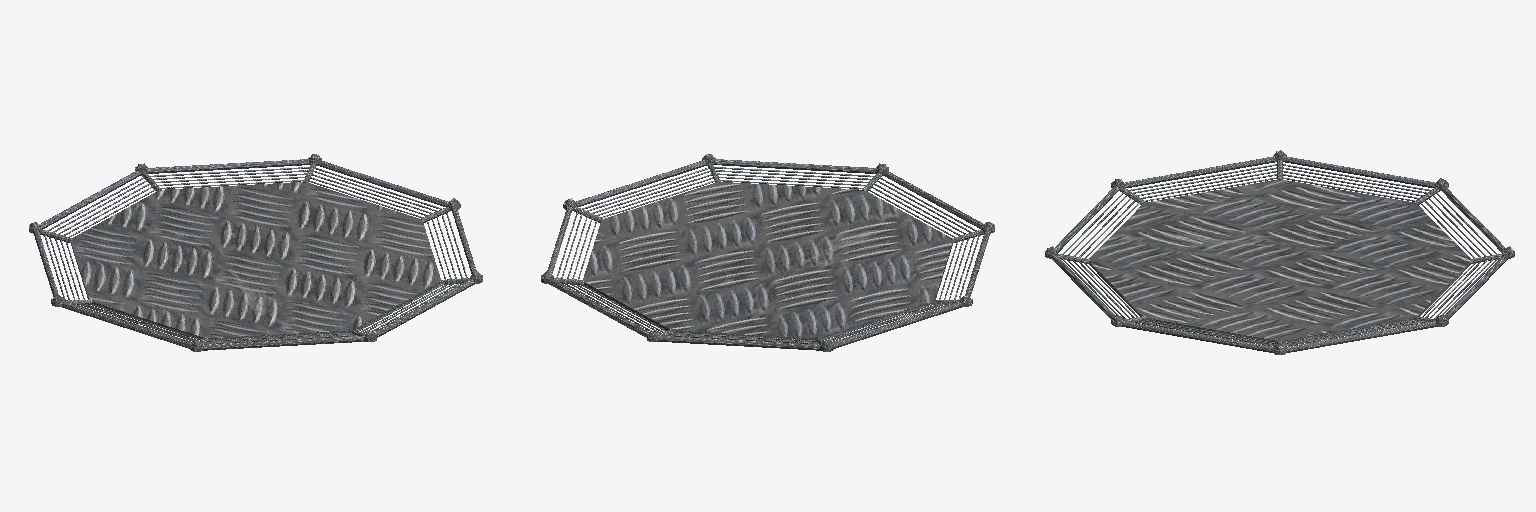
3 renders of one model, left to right at view 1: azimuth 30°, elevation 25°; view 2: azimuth 150°, elevation 25°; view 3: azimuth 270°, elevation 25°, orthographic.
Parts seen in each view (by area): view 1: Cylinder.001; view 2: Cylinder.001; view 3: Cylinder.001.
Part boxes in pixels (bbox=[...]): Cylinder.001: bbox=[29, 154, 482, 351]; Cylinder.001: bbox=[541, 154, 994, 351]; Cylinder.001: bbox=[1045, 150, 1514, 354].
Size of the model in its own units: 64.23 by 2.57 by 64.23.
Materials: 1 (1 with a texture image).